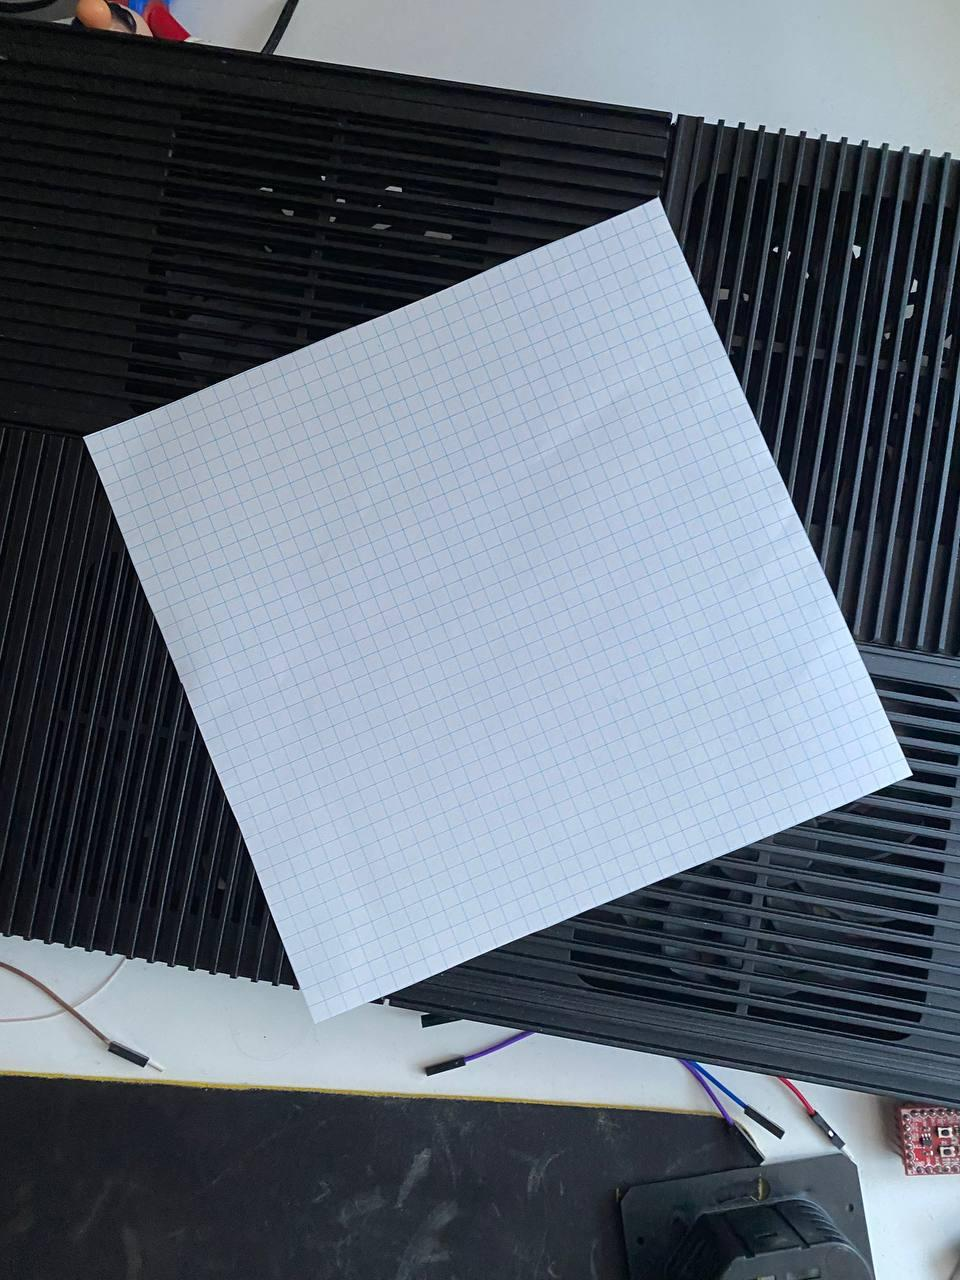grid: (71, 191, 923, 1030)
